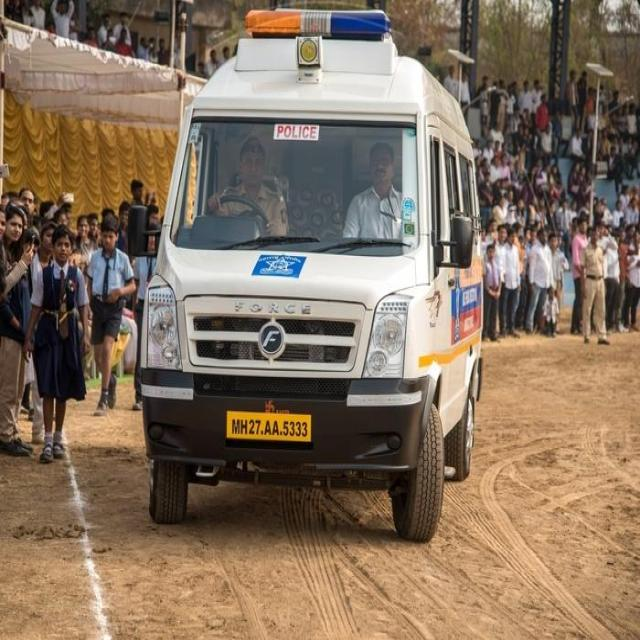emergency: (142, 11, 481, 540)
